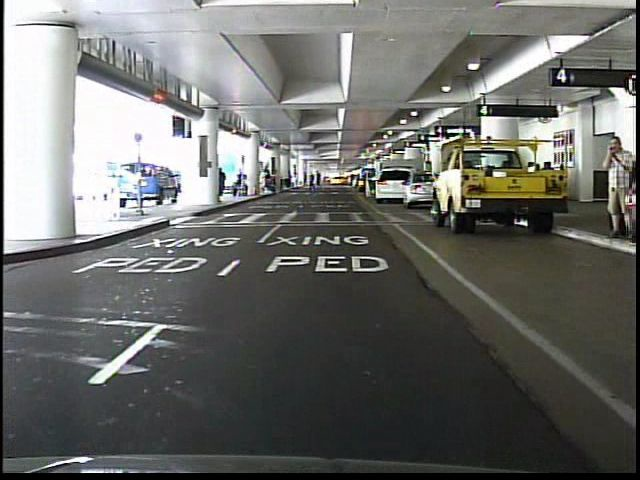person: (599, 134, 631, 239)
